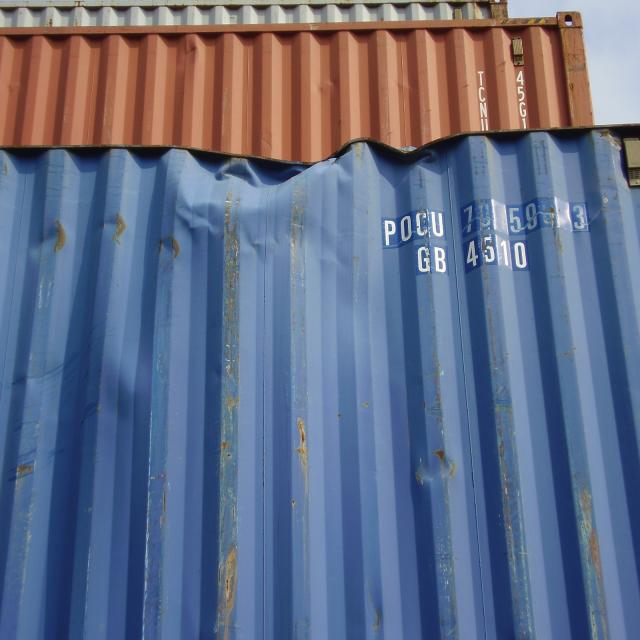dent: (170, 162, 365, 257), (306, 214, 387, 353), (176, 137, 360, 177), (355, 126, 488, 176), (102, 349, 164, 432), (29, 213, 77, 265), (414, 454, 464, 493), (98, 216, 137, 248)
